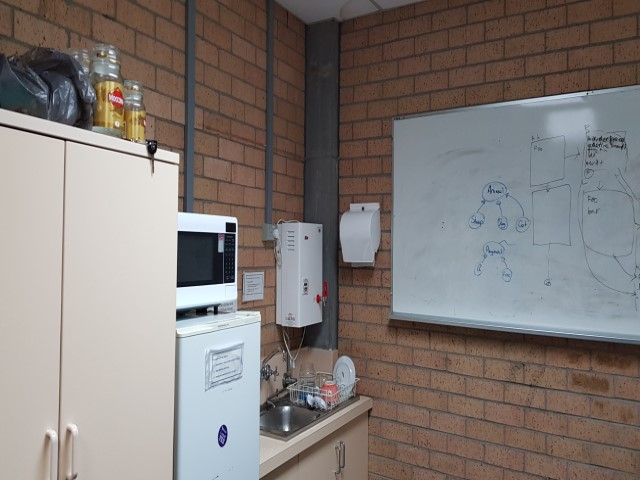key: (147, 140, 158, 174)
